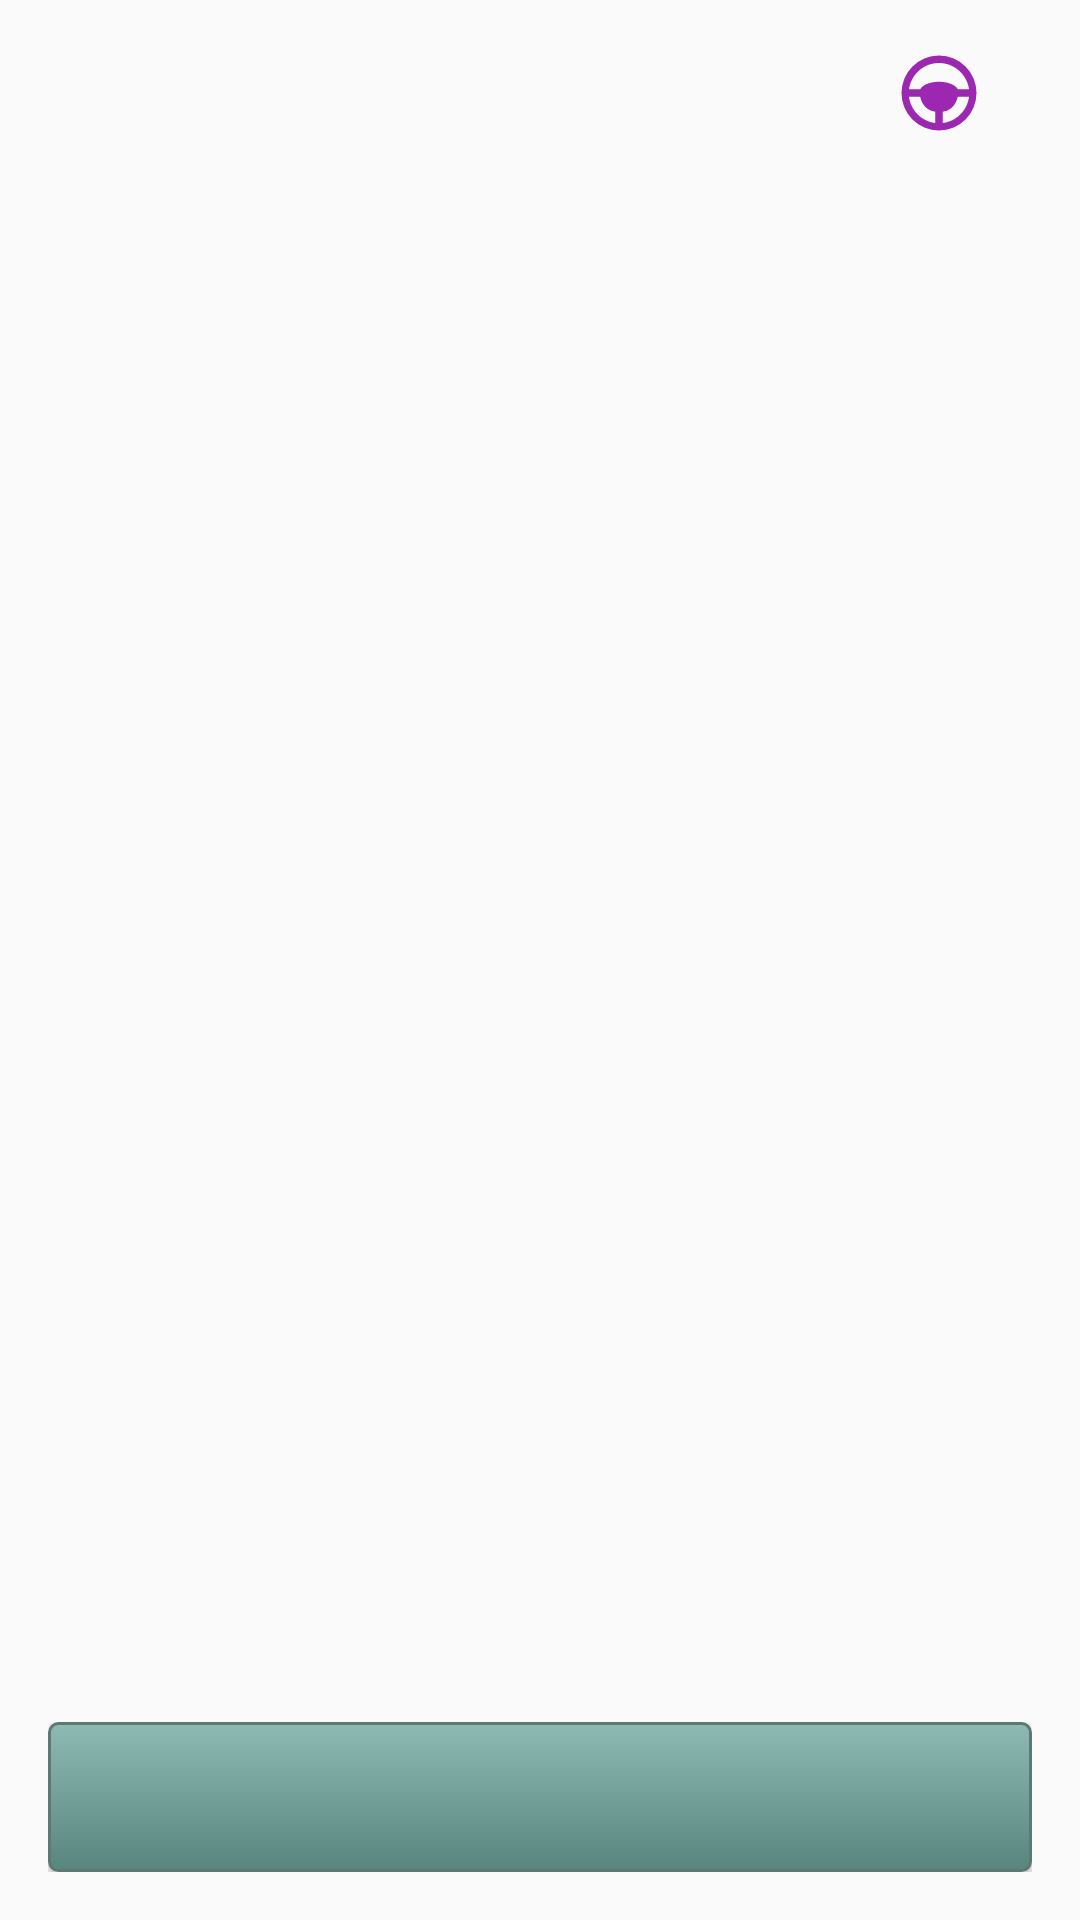

Icons on this 1080 × 1920 Android screen, each with its box as {"left": x1, "top": y1, "right": x2, "bottom": y2}:
steering: {"left": 901, "top": 55, "right": 977, "bottom": 131}
